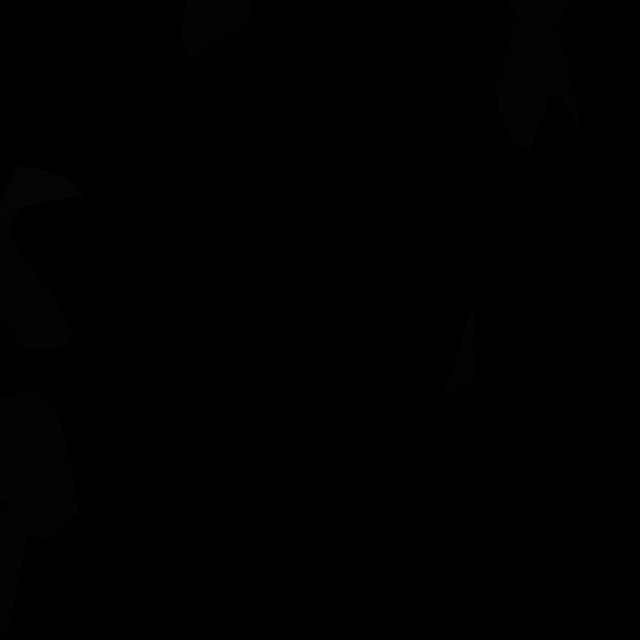cardboard: (494, 0, 585, 150), (0, 390, 80, 543), (0, 217, 76, 351), (0, 451, 35, 640), (180, 0, 252, 58), (444, 308, 477, 393)
soft_plastic: (0, 165, 84, 229)
